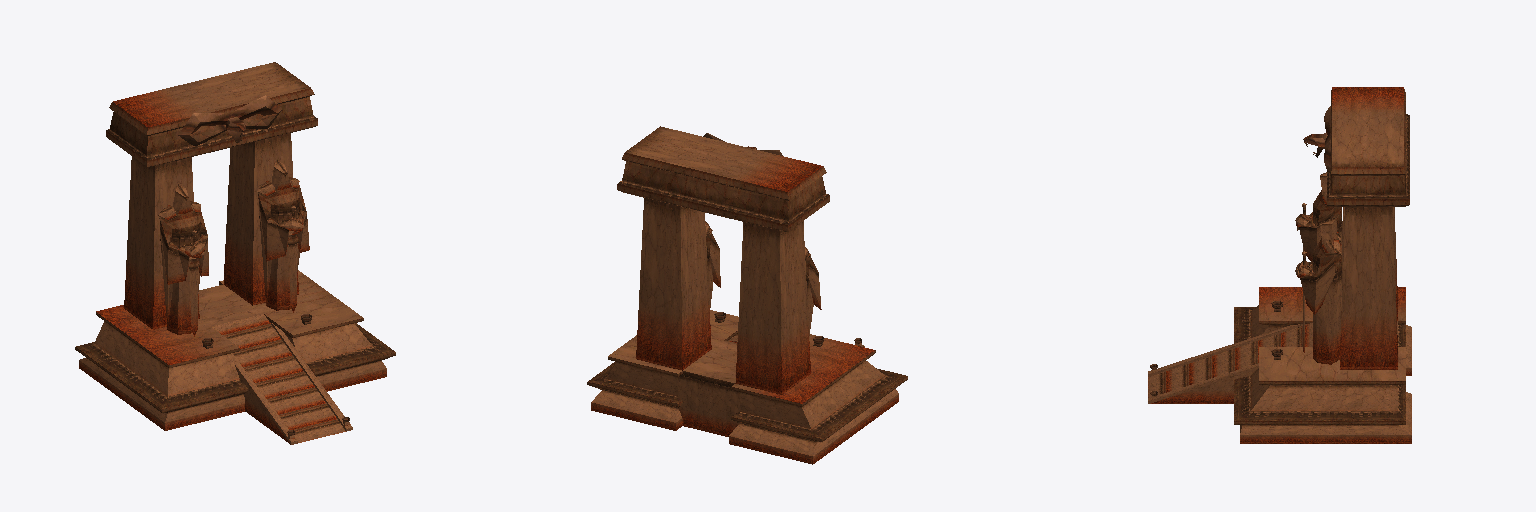
3 renders of one model, left to right at view 1: azimuth 30°, elevation 25°; view 2: azimuth 150°, elevation 25°; view 3: azimuth 270°, elevation 25°, orthographic.
Visible parts, largest first — view 1: world/generic/passivedoodads/darkportals/darkportal01.m2_Geoset; view 2: world/generic/passivedoodads/darkportals/darkportal01.m2_Geoset; view 3: world/generic/passivedoodads/darkportals/darkportal01.m2_Geoset.
Boxes of the visible parts, x1=… form: world/generic/passivedoodads/darkportals/darkportal01.m2_Geoset: x1=75, y1=62, x2=395, y2=444; world/generic/passivedoodads/darkportals/darkportal01.m2_Geoset: x1=587, y1=126, x2=907, y2=464; world/generic/passivedoodads/darkportals/darkportal01.m2_Geoset: x1=1148, y1=87, x2=1411, y2=443.
Bounding box in the file's own units: 71.78 × 77.92 × 69.82.
Materials: 2 (2 with a texture image).